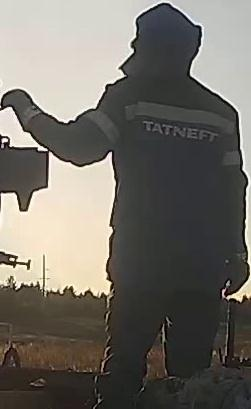gloves: (0, 88, 46, 130), (223, 241, 251, 299)
vest: (96, 82, 249, 263)
